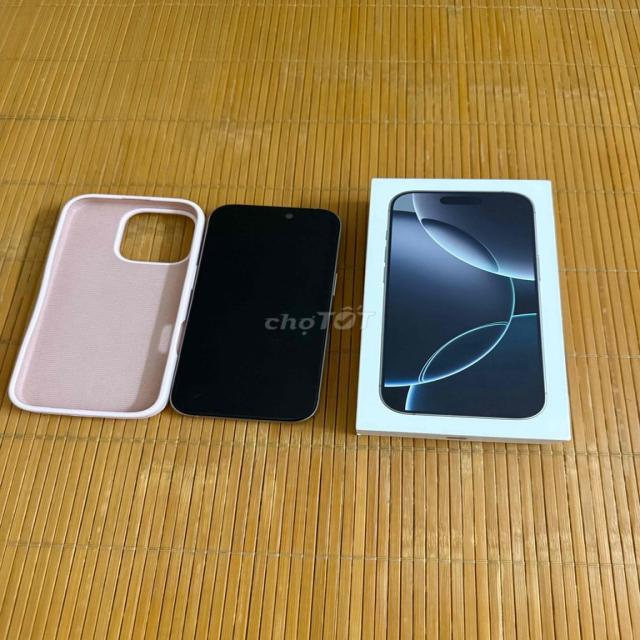gen_16: (172, 204, 340, 421)
